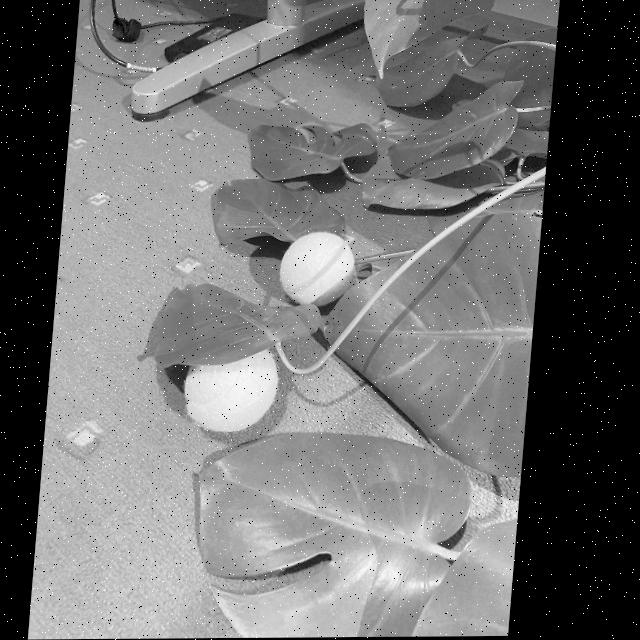Tennisball: (185, 351, 278, 432), (280, 232, 354, 306)
